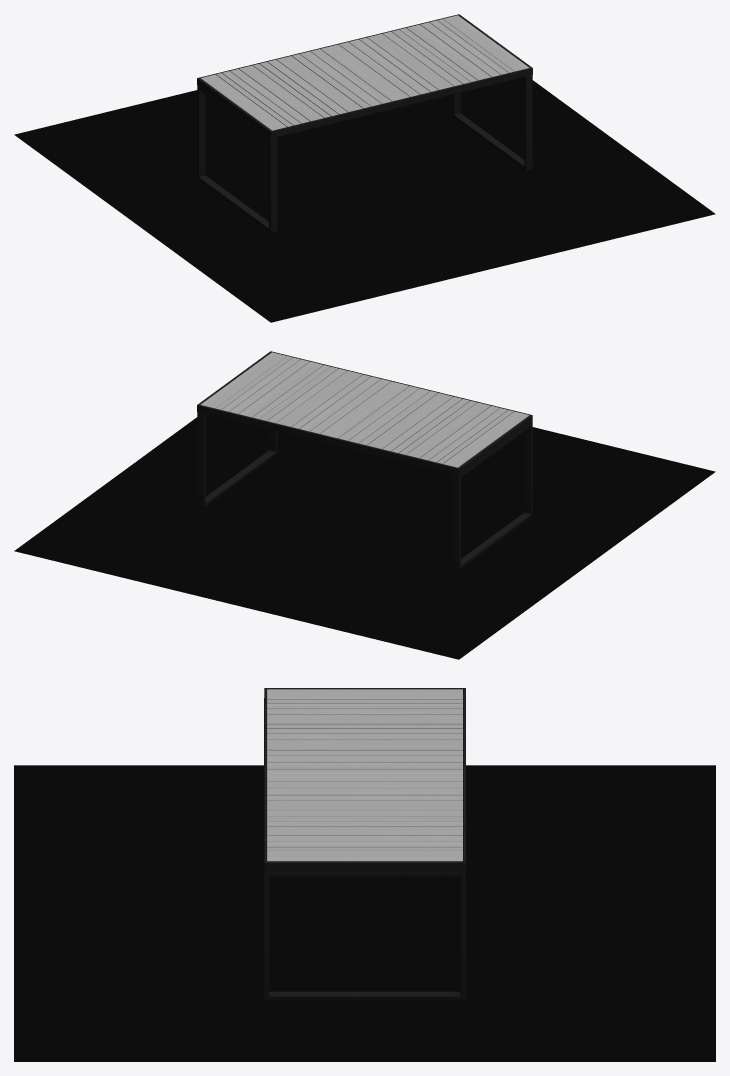
The picture shows the model from 3 angles, top to bottom: view 1: azimuth 30°, elevation 25°; view 2: azimuth 150°, elevation 25°; view 3: azimuth 270°, elevation 25°; orthographic projection. The views are drawn at different scales.
Parts seen in each view (by area): view 1: Plane001_FLOOR_0, WOOD001_WOOD_0, STEEL001_STEEL_0; view 2: Plane001_FLOOR_0, WOOD001_WOOD_0, STEEL001_STEEL_0; view 3: Plane001_FLOOR_0, WOOD001_WOOD_0, STEEL001_STEEL_0.
Part boxes in pixels (x1=…): Plane001_FLOOR_0: x1=14, y1=77, x2=715, y2=322; WOOD001_WOOD_0: x1=200, y1=15, x2=529, y2=130; STEEL001_STEEL_0: x1=197, y1=14, x2=532, y2=232; Plane001_FLOOR_0: x1=14, y1=414, x2=715, y2=659; WOOD001_WOOD_0: x1=200, y1=352, x2=529, y2=467; STEEL001_STEEL_0: x1=197, y1=351, x2=532, y2=569; Plane001_FLOOR_0: x1=14, y1=765, x2=715, y2=1061; WOOD001_WOOD_0: x1=267, y1=689, x2=462, y2=861; STEEL001_STEEL_0: x1=264, y1=688, x2=465, y2=1000.
Bounding box in the file's own units: 1.36 × 0.2968 × 1.36.
Materials: 2 (2 with a texture image).
